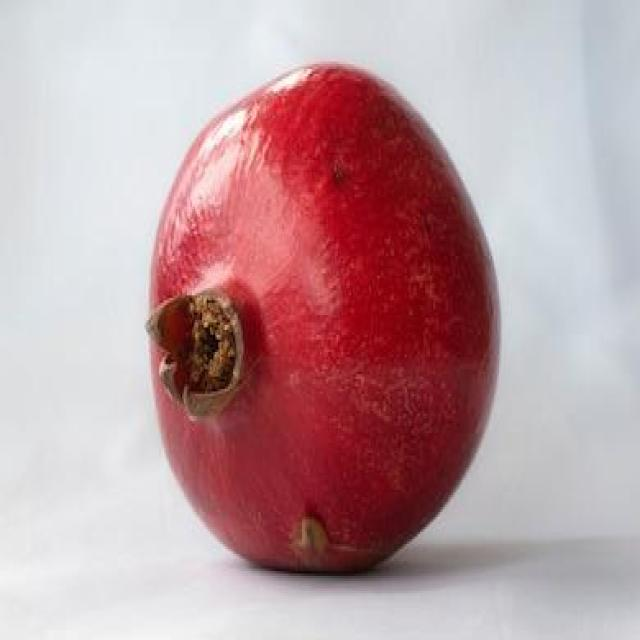Pomegranate: (140, 59, 504, 578)
